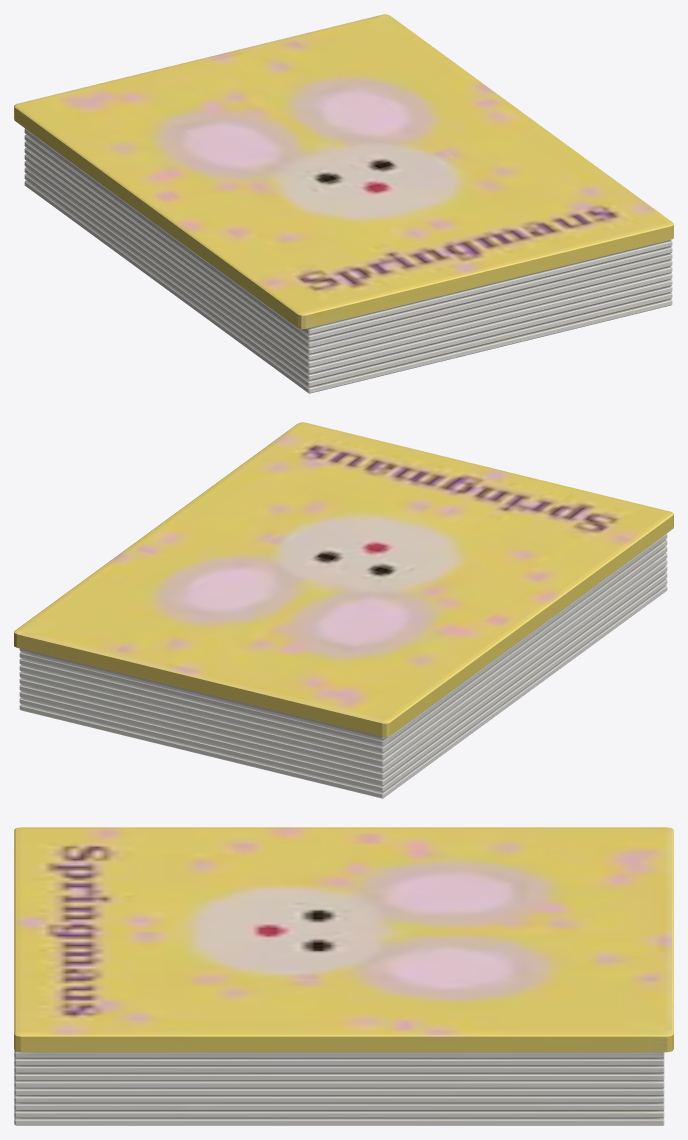
Rendered from diddl.glb.
3 views of the same model, one above another, from view 1: azimuth 30°, elevation 25°; view 2: azimuth 150°, elevation 25°; view 3: azimuth 270°, elevation 25° (orthographic). The views are drawn at different scales.
Visible parts, largest first — view 1: diddl; view 2: diddl; view 3: diddl.
Part boxes in pixels (<box>): diddl: <box>14,14,673,393</box>; diddl: <box>14,422,673,798</box>; diddl: <box>14,827,673,1125</box>.
Bounding box in the file's own units: 0.075 × 0.0155 × 0.1.
1 material, 1 textured.
